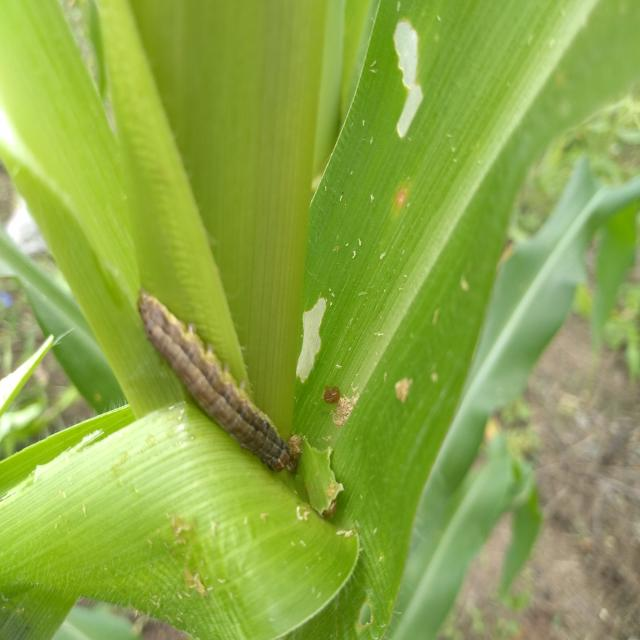yellow-stem-borer-larva: (131, 272, 326, 501)
